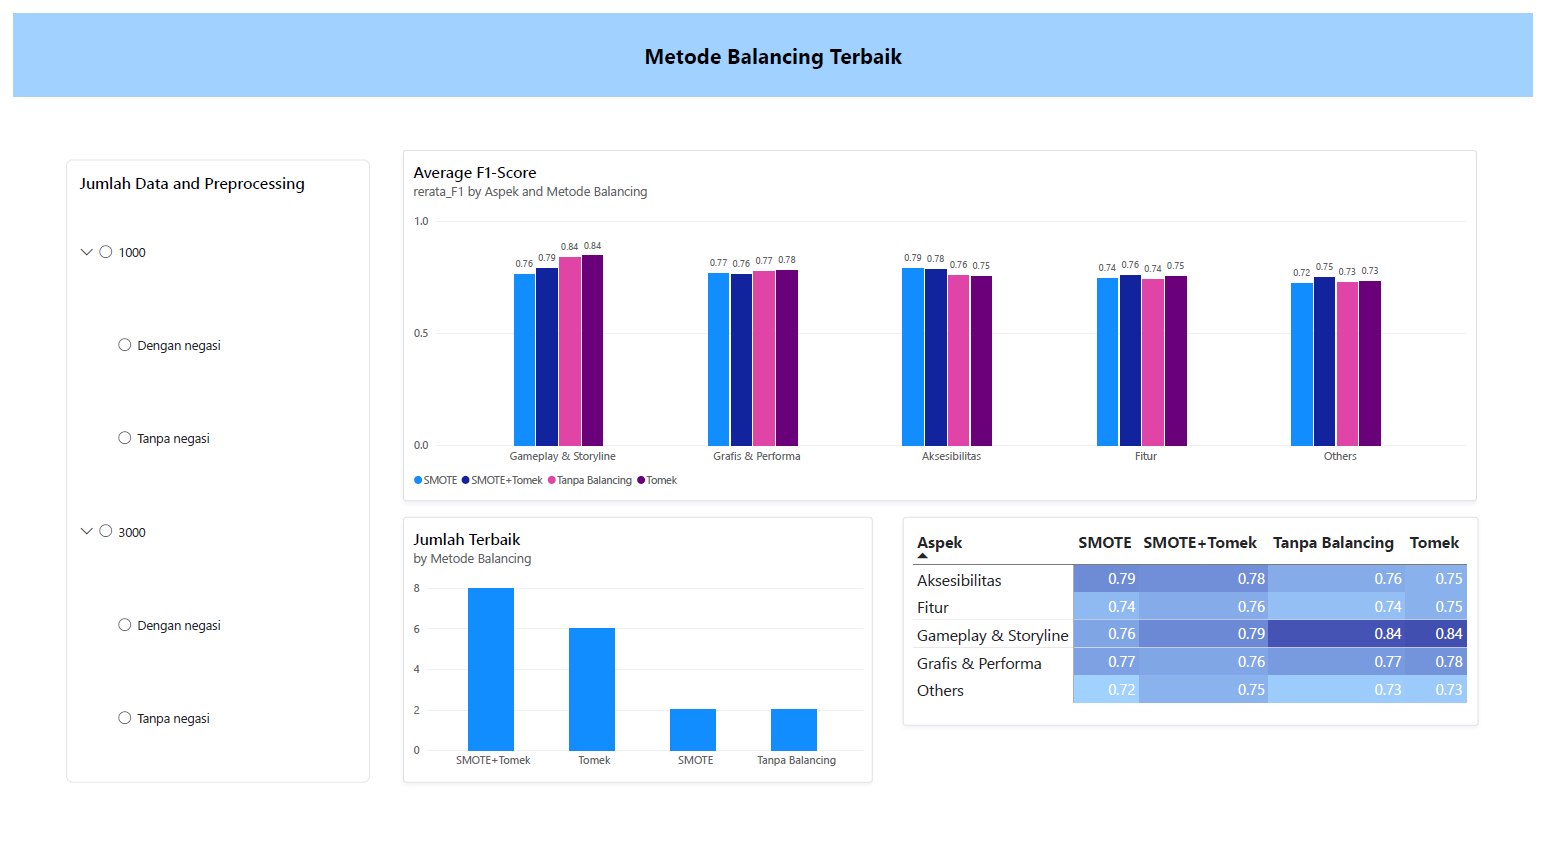

This screenshot's page, from the dashboard's own definition file:
{"tool":"powerbi","page":{"name":"Metode balancing terbaik","canvas":[1920,1080],"ordinal":0},"visuals":[{"type":"clusteredColumnChart","title":"Average F1-Score","fields":{"Category":["Data Lengkap.Aspek"],"Series":["Data Lengkap.Metode Balancing"],"Y":["Data Lengkap.rerata_F1"]},"box":[492,172,1358,444],"z":0},{"type":"pivotTable","title":"Heatmap (Average F1 - Score)","fields":{"Columns":["Data Lengkap.Metode Balancing"],"Rows":["Data Lengkap.Aspek"],"Values":["Data Lengkap.rerata_F1"]},"box":[1124,636,728,264],"z":1000},{"type":"clusteredColumnChart","fields":{"Category":["Data Lengkap.Metode Balancing"],"Y":["Data Lengkap.Jumlah Terbaik"]},"box":[492,636,594,336],"z":2000},{"type":"listSlicer","fields":{"Values":["Data Lengkap.Jumlah Data","Data Lengkap.Preprocessing"]},"box":[66,184,384,788],"z":3000},{"type":"textbox","box":[0,0,1920,104],"z":5000}]}

Visuals, with their boxes in screenshot pixels (x1, y1, x2, y2), scaled from the page's 1920x1080 canvas onto the 1549x863 screenshot:
"Average F1-Score" clusteredColumnChart: [left=397, top=137, right=1493, bottom=492]
"Heatmap (Average F1 - Score)" pivotTable: [left=907, top=508, right=1494, bottom=719]
clusteredColumnChart - Data Lengkap.Metode Balancing x Data Lengkap.Jumlah Terbaik: [left=397, top=508, right=876, bottom=777]
listSlicer - Data Lengkap.Jumlah Data x Data Lengkap.Preprocessing: [left=53, top=147, right=363, bottom=777]
textbox: [left=0, top=0, right=1548, bottom=83]
